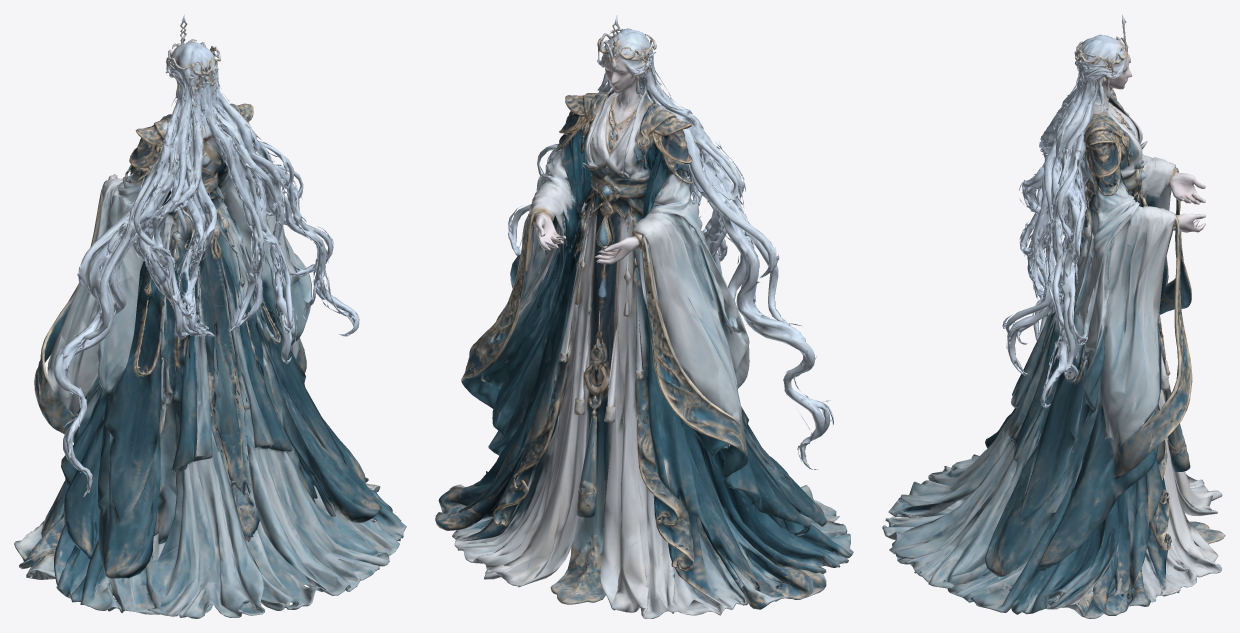
The model's file is water-deity.glb.
3 views of the same model, side by side, from view 1: azimuth 30°, elevation 25°; view 2: azimuth 150°, elevation 25°; view 3: azimuth 270°, elevation 25° (orthographic). The views are drawn at different scales.
Parts seen in each view (by area): view 1: Material_0 0; view 2: Material_0 0; view 3: Material_0 0.
Boxes of the visible parts, x1=… form: Material_0 0: x1=14, y1=14, x2=406, y2=618; Material_0 0: x1=435, y1=15, x2=853, y2=618; Material_0 0: x1=882, y1=15, x2=1225, y2=618.
Bounding box in the file's own units: 2.37 × 3.3 × 1.96.
1 material, 1 textured.
